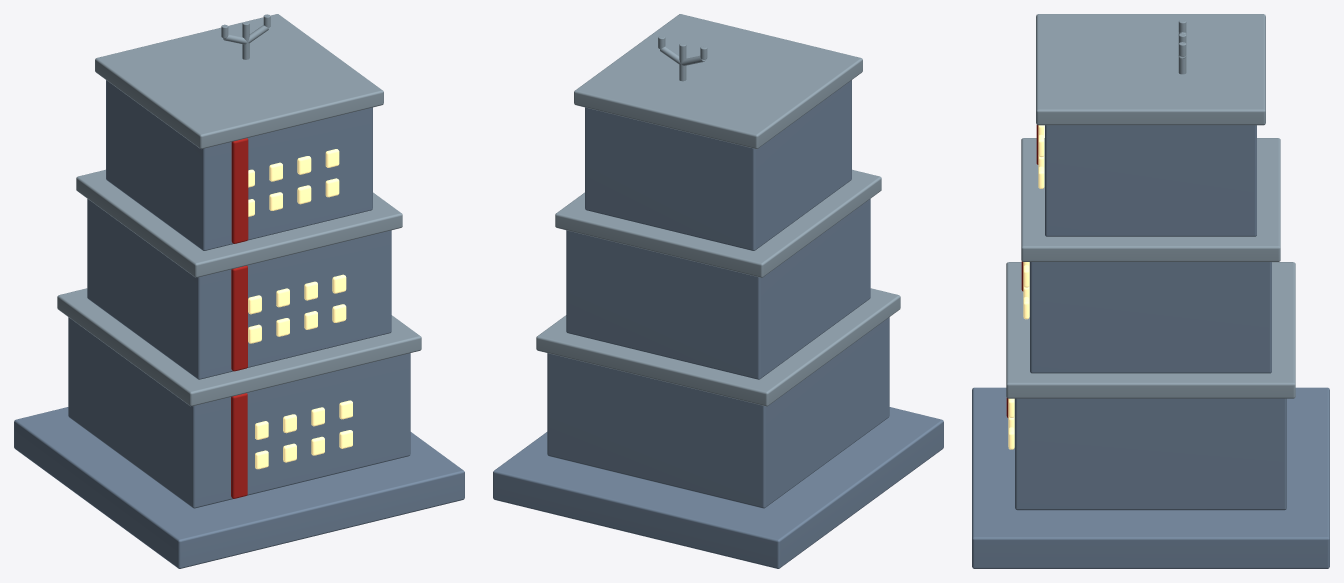
3 views of the same model, side by side, from view 1: azimuth 30°, elevation 25°; view 2: azimuth 150°, elevation 25°; view 3: azimuth 270°, elevation 25° (orthographic). The views are drawn at different scales.
Parts seen in each view (by area): view 1: Modular block storey, Modular block storey.001, Foundation slab, Modular block storey.002, Block roof ledge.002, Block roof ledge, Block roof ledge.001, Vertical block colour strip.002, Vertical block colour strip, Vertical block colour strip.001; view 2: Modular block storey, Modular block storey.001, Foundation slab, Modular block storey.002, Block roof ledge.002, Block roof ledge, Block roof ledge.001; view 3: Foundation slab, Modular block storey, Modular block storey.001, Block roof ledge.002, Modular block storey.002, Block roof ledge, Block roof ledge.001.
Part boxes in pixels (x1,y1,x2,y2): Modular block storey: (68, 317, 410, 508); Modular block storey.001: (87, 199, 391, 379); Foundation slab: (14, 407, 464, 568); Modular block storey.002: (106, 80, 372, 250); Block roof ledge.002: (95, 14, 383, 148); Block roof ledge: (57, 288, 421, 406); Block roof ledge.001: (76, 169, 402, 277); Vertical block colour strip.002: (231, 138, 248, 243); Vertical block colour strip: (231, 393, 247, 498); Vertical block colour strip.001: (231, 265, 247, 371); Modular block storey: (547, 317, 889, 508); Modular block storey.001: (566, 199, 870, 379); Foundation slab: (493, 407, 943, 568); Modular block storey.002: (585, 80, 851, 250); Block roof ledge.002: (574, 14, 862, 148); Block roof ledge: (536, 288, 900, 406); Block roof ledge.001: (555, 169, 881, 277); Foundation slab: (972, 387, 1329, 568); Modular block storey: (1015, 398, 1286, 510); Modular block storey.001: (1030, 262, 1271, 373); Block roof ledge.002: (1036, 14, 1265, 125); Modular block storey.002: (1045, 125, 1256, 236); Block roof ledge: (1006, 262, 1295, 398); Block roof ledge.001: (1021, 138, 1280, 261).
Bounding box in the file's own units: 2.04 × 2.97 × 2.04.
